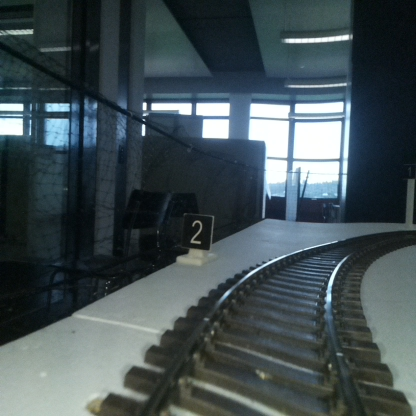black-info-1: (403, 162, 416, 228)
black-stop-2: (183, 214, 211, 263)
